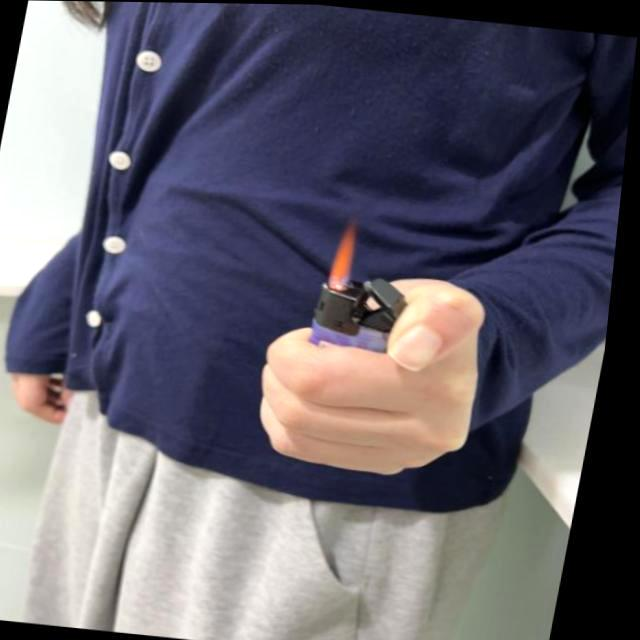fire: (331, 217, 364, 287)
